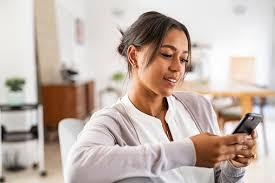0: (123, 16, 191, 97)
Hand: (195, 133, 245, 171), (240, 129, 258, 167)
Smartphone: (228, 114, 267, 139)
